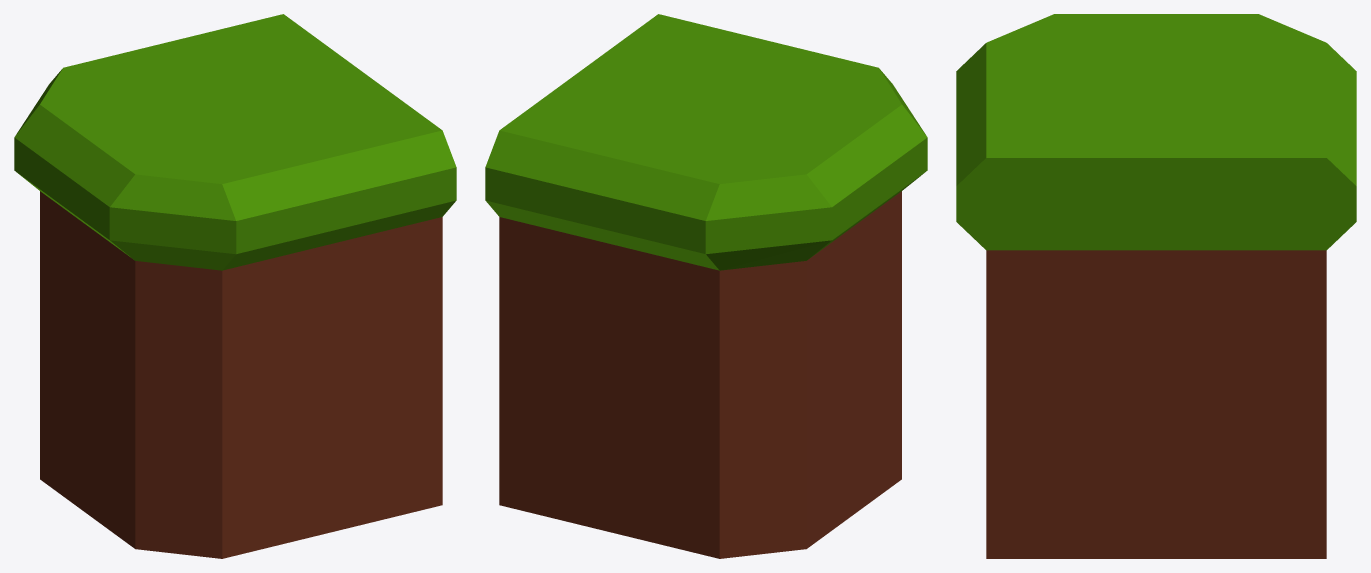
File: GrassDCorner.fbx
The picture shows the model from 3 angles, left to right: view 1: azimuth 30°, elevation 25°; view 2: azimuth 150°, elevation 25°; view 3: azimuth 270°, elevation 25°; orthographic projection. The views are drawn at different scales.
Parts seen in each view (by area): view 1: Cube.006; view 2: Cube.006; view 3: Cube.006.
Boxes of the visible parts, x1,y1,x2,y2 form: Cube.006: (14, 14, 456, 558); Cube.006: (485, 14, 927, 558); Cube.006: (956, 14, 1356, 558).
Bounding box in the file's own units: 219 × 260 × 235.
